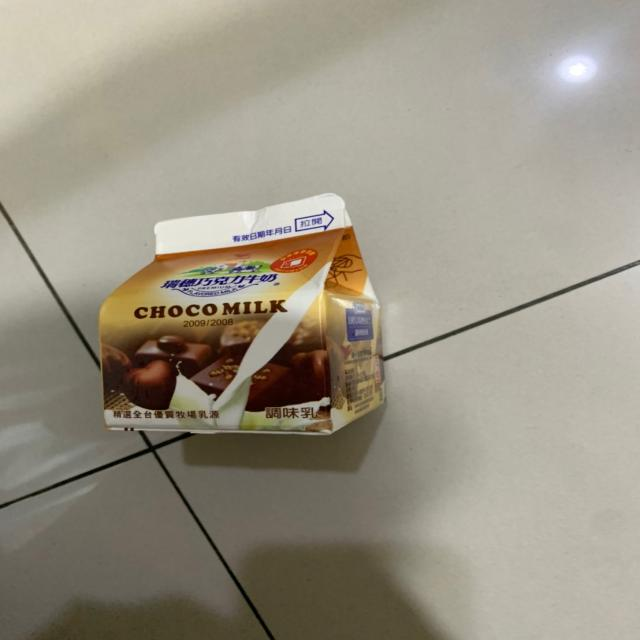non_white_jug: (72, 184, 401, 449)
